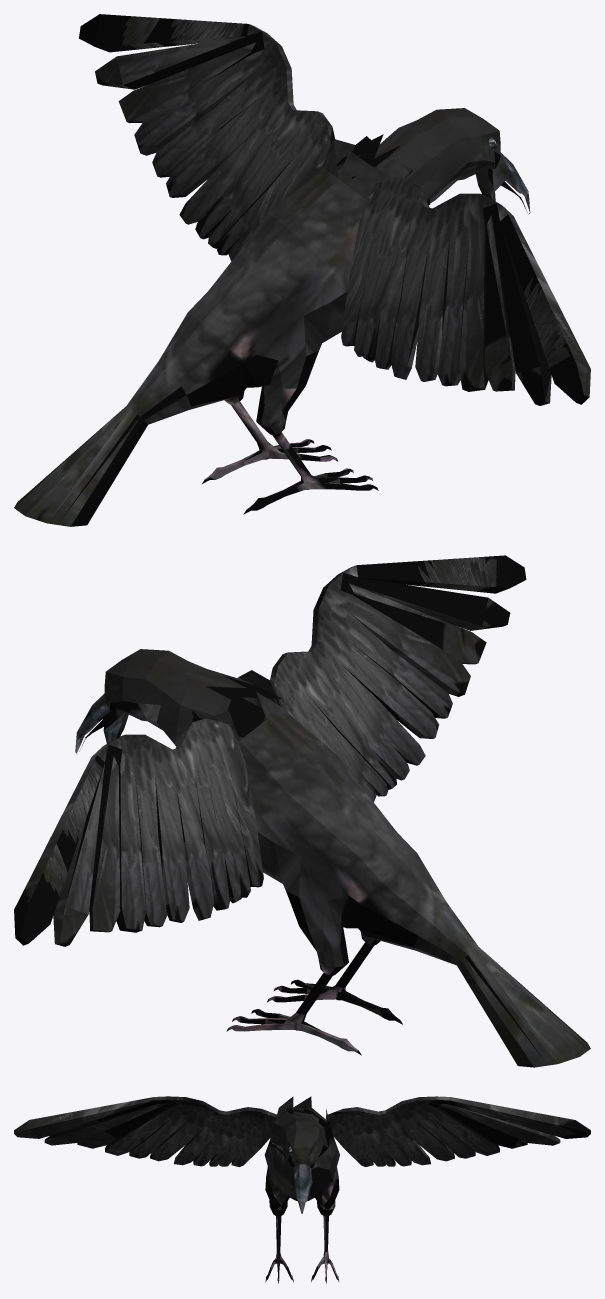
The model's file is CrowBent0_000012.obj.
3 views of the same model, one above another, from view 1: azimuth 30°, elevation 25°; view 2: azimuth 150°, elevation 25°; view 3: azimuth 270°, elevation 25° (orthographic). The views are drawn at different scales.
Parts seen in each view (by area): view 1: Cylinder.009, Cylinder.003, Cylinder.002, Cylinder.001; view 2: Cylinder.009, Cylinder.002, Cylinder.003, Cylinder.001; view 3: Cylinder.002, Cylinder.003, Cylinder.009, Cylinder.001.
Part boxes in pixels (<box>): Cylinder.009: <box>14,136,412,526</box>; Cylinder.003: <box>341,177,590,405</box>; Cylinder.002: <box>79,14,338,261</box>; Cylinder.001: <box>336,108,530,214</box>; Cylinder.009: <box>191,670,590,1067</box>; Cylinder.002: <box>14,718,263,946</box>; Cylinder.003: <box>268,555,526,802</box>; Cylinder.001: <box>75,649,282,754</box>; Cylinder.002: <box>326,1096,590,1166</box>; Cylinder.003: <box>14,1096,278,1166</box>; Cylinder.009: <box>264,1096,339,1283</box>; Cylinder.001: <box>269,1108,329,1213</box>.
Size of the model in its own units: 5.46 by 3.52 by 9.33.
4 materials, 4 textured.
